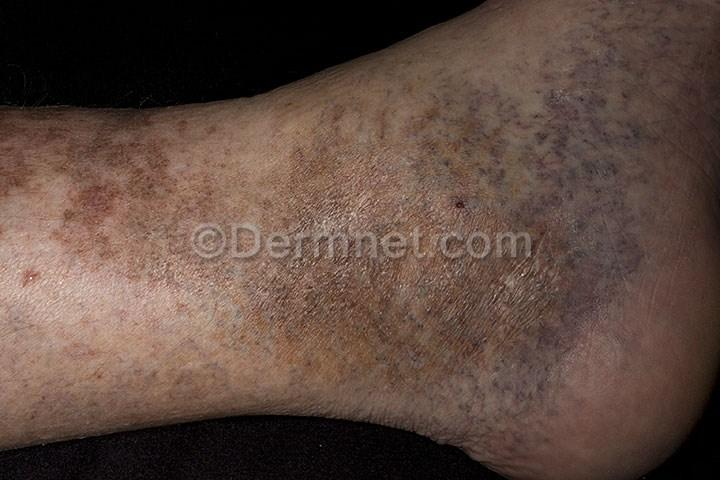Eczema: (255, 101, 571, 225), (198, 259, 485, 392), (0, 109, 190, 307), (489, 260, 592, 381)
